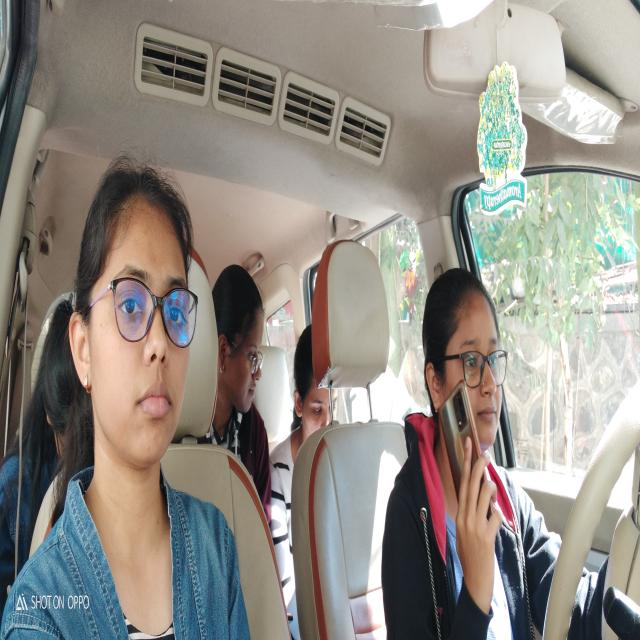mobile: (434, 399, 502, 561)
person: (72, 143, 200, 472), (421, 272, 512, 458), (27, 309, 90, 470), (216, 266, 266, 424), (290, 330, 334, 438)
